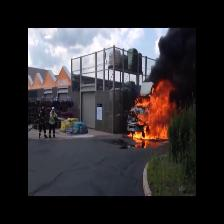fire: (136, 85, 172, 143)
smoke: (174, 28, 194, 98)
